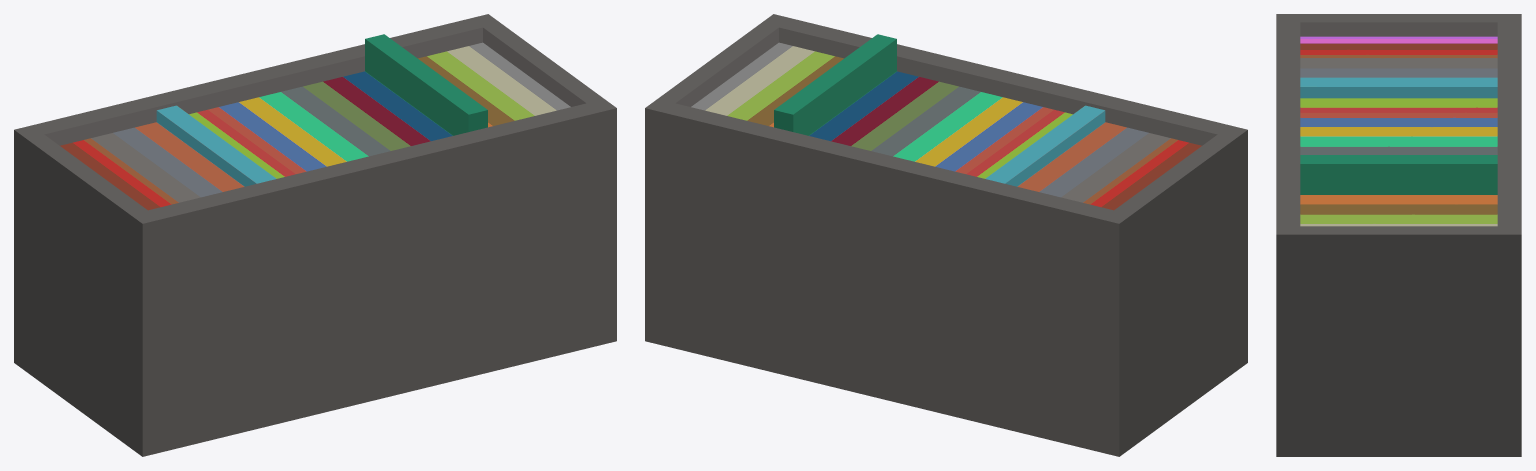
Rendered from RecordShelf.glb.
The picture shows the model from 3 angles, left to right: view 1: azimuth 30°, elevation 25°; view 2: azimuth 150°, elevation 25°; view 3: azimuth 270°, elevation 25°; orthographic projection. The views are drawn at different scales.
Parts seen in each view (by area): view 1: SI_Prop_RecordShelf_01; view 2: SI_Prop_RecordShelf_01; view 3: SI_Prop_RecordShelf_01.
Part boxes in pixels (x1=…): SI_Prop_RecordShelf_01: x1=14, y1=14, x2=616, y2=456; SI_Prop_RecordShelf_01: x1=645, y1=14, x2=1247, y2=456; SI_Prop_RecordShelf_01: x1=1276, y1=14, x2=1521, y2=456.
Size of the model in its own units: 0.0213 by 0.0107 by 0.01.
Materials: 1 (1 with a texture image).
